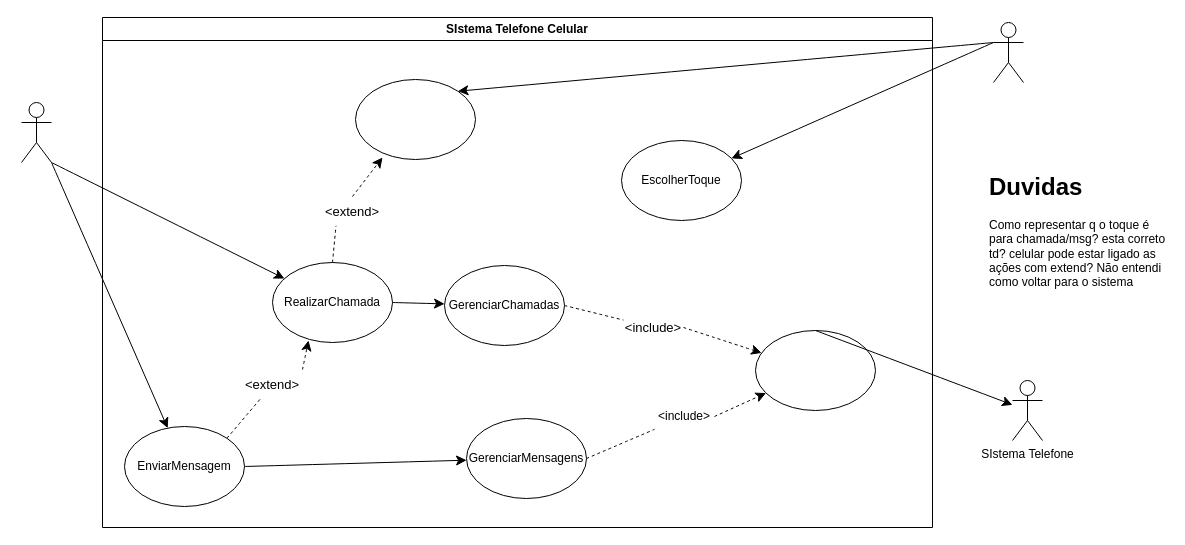
Some shapes in this 1185 by 545 pixel diagram are drawn without their labels. Here are the shapes that lost their labels. From the top down, the centre of each, then its label:
At pixel 1008 52: "usuario".
At pixel 36 132: "Celular".
At pixel 415 119: "cadastrarContato".
At pixel 815 370: "ArmazenarRecebidas".
